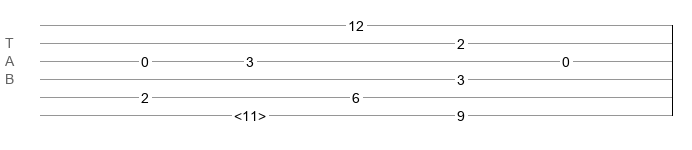0: (141, 54, 149, 64), (562, 54, 570, 64)
12: (348, 18, 364, 28)
2: (141, 90, 149, 100), (457, 36, 465, 46)
3: (246, 54, 254, 64), (457, 72, 465, 82)
6: (352, 90, 360, 100)
9: (457, 108, 465, 118)
harmonic: (234, 108, 266, 118)
